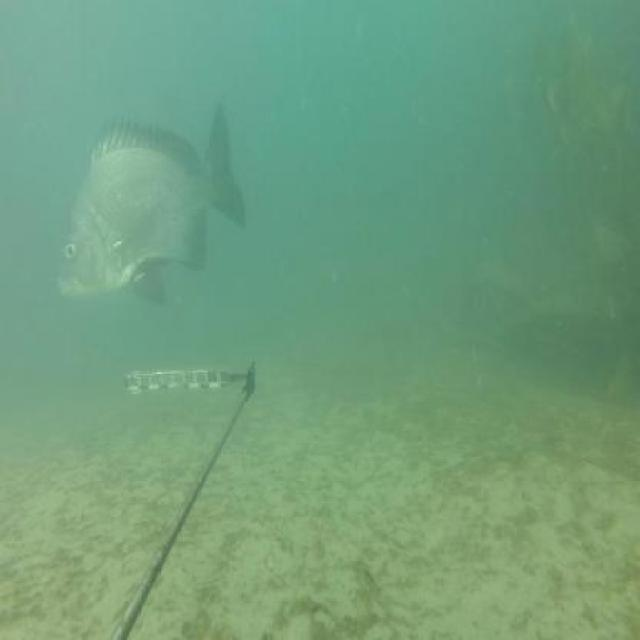acanthopagrus_palmaris: (55, 94, 248, 308)
